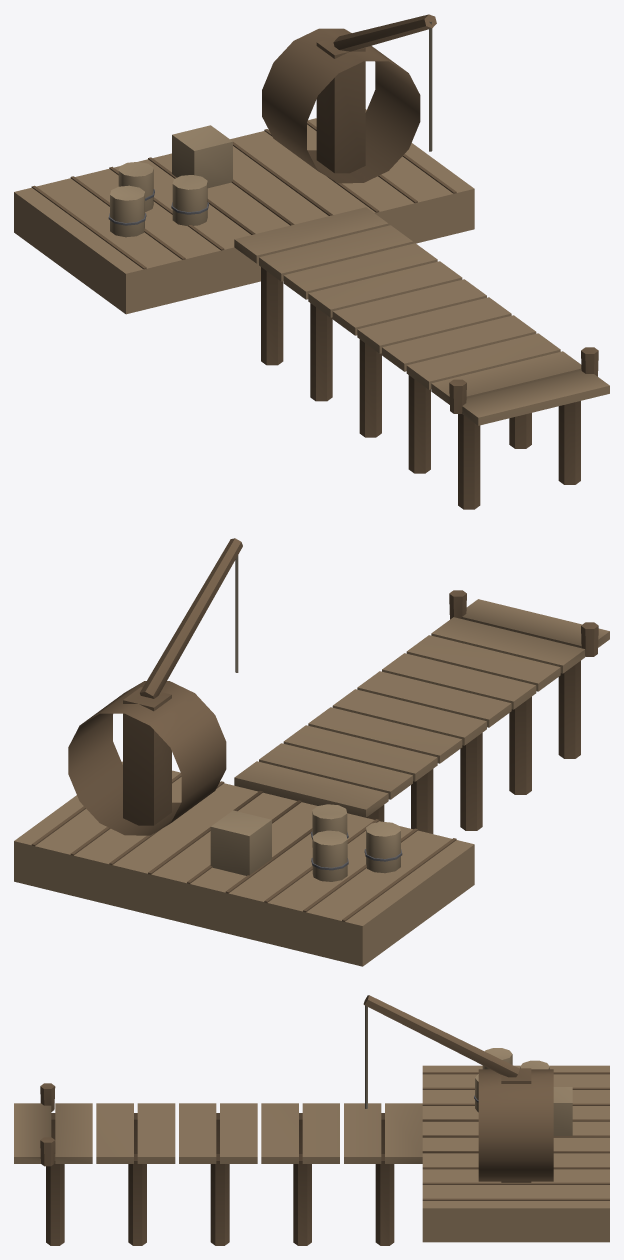
The model's file is quay_wood.glb.
3 renders of one model, top to bottom at view 1: azimuth 30°, elevation 25°; view 2: azimuth 150°, elevation 25°; view 3: azimuth 270°, elevation 25°, orthographic. The views are drawn at different scales.
Visible parts, largest first — view 1: Body; view 2: Body; view 3: Body.
Part boxes in pixels (box(x1,y1,x2,y2)): Body: box(14, 14, 609, 509); Body: box(14, 538, 609, 966); Body: box(14, 995, 609, 1245).
Bounding box in the file's own units: 0.9 × 0.784 × 1.59.
